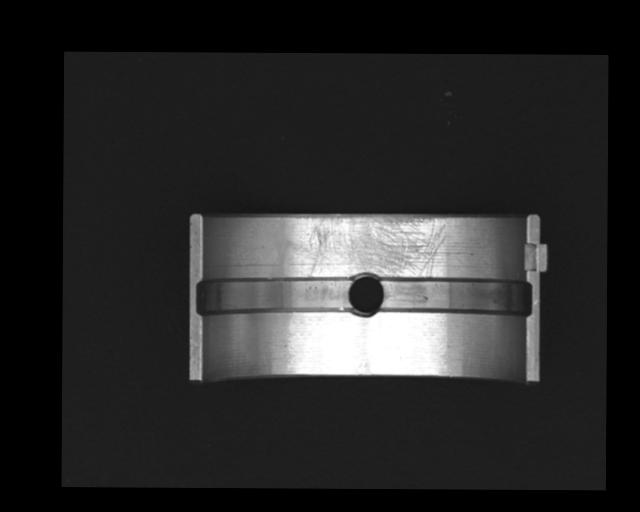gap: (196, 275, 353, 316), (379, 280, 533, 313)
hole: (349, 272, 382, 318)
scratch: (295, 215, 447, 278)
